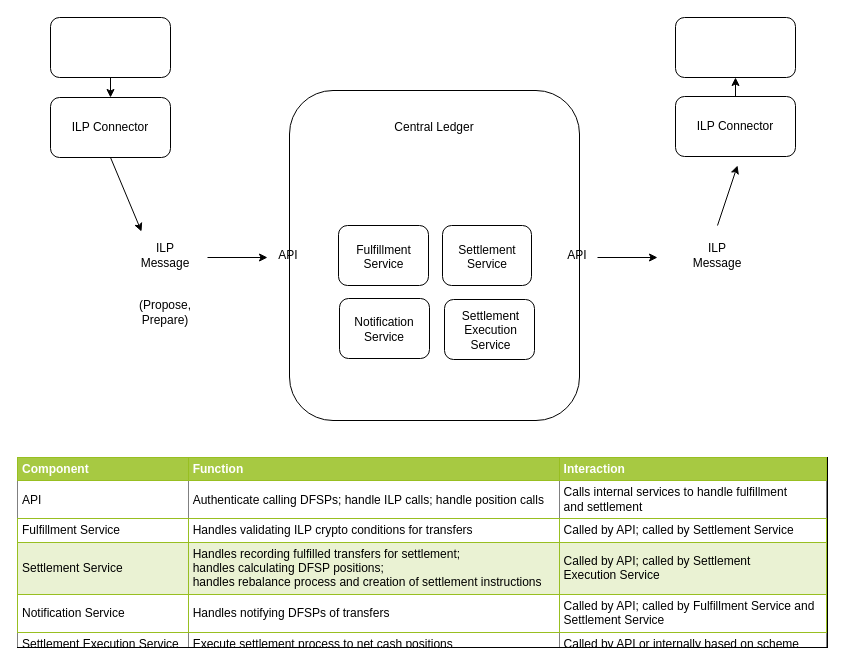
The diagram is 845 pixels wide and 667 high, and some of its shapes have lost their labels. Each missing label, with the centre of its shape:
Receiver DFSP: (735,47)
Sender DFSP: (110,47)
